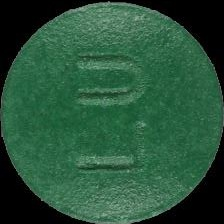63629-5028: (0, 0, 224, 224)
